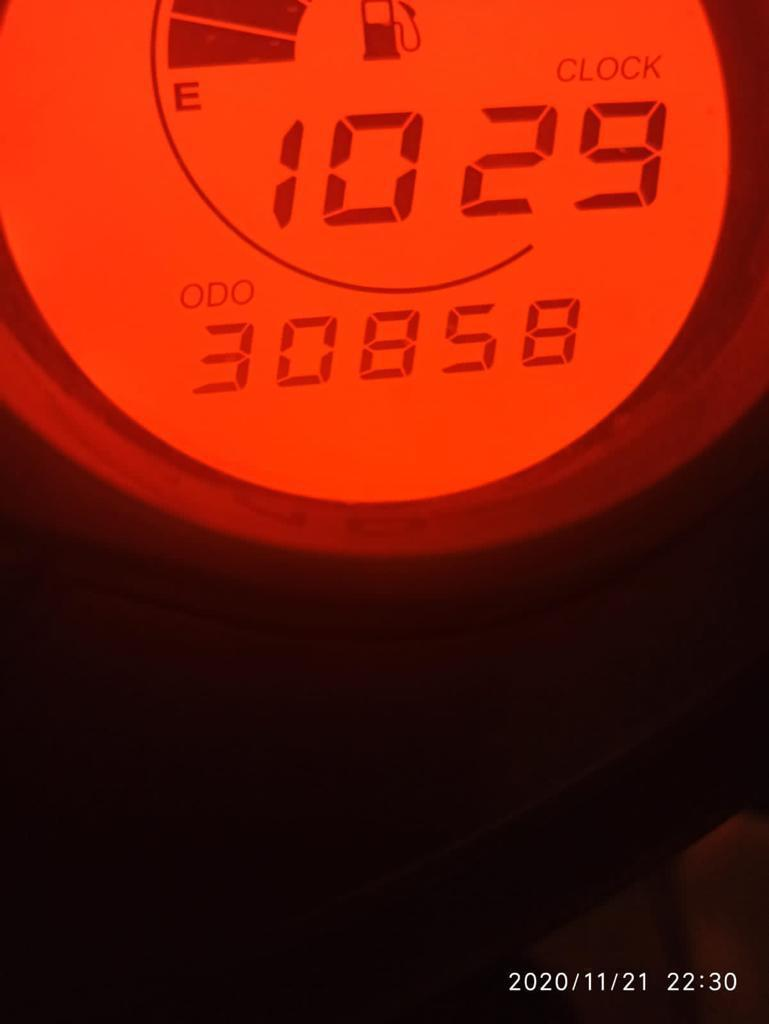0: (320, 107, 427, 230), (274, 315, 339, 388)
1: (271, 114, 307, 232)
2: (459, 102, 563, 220)
3: (190, 322, 255, 395)
5: (440, 302, 497, 375)
8: (358, 307, 420, 381), (520, 296, 581, 367)
9: (574, 99, 667, 213)
X: (169, 75, 203, 113), (231, 278, 255, 305), (179, 282, 203, 309), (206, 280, 229, 308), (596, 56, 618, 80), (555, 57, 577, 81), (643, 53, 662, 80), (621, 55, 640, 80), (579, 57, 593, 82)
odometer: (9, 0, 730, 516)
